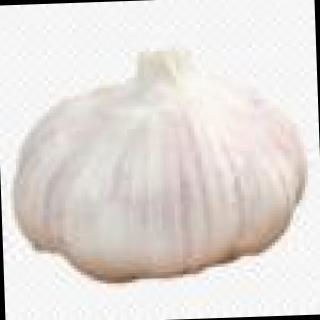Bawang Putih: (7, 41, 316, 285)
